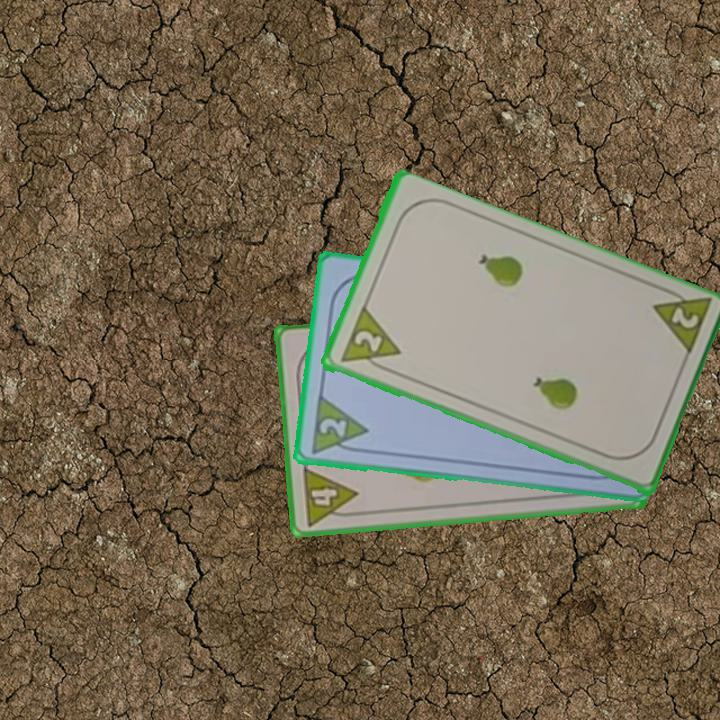2p: (647, 281, 713, 361), (336, 305, 403, 377), (307, 392, 370, 458)
4p: (299, 464, 362, 529)
